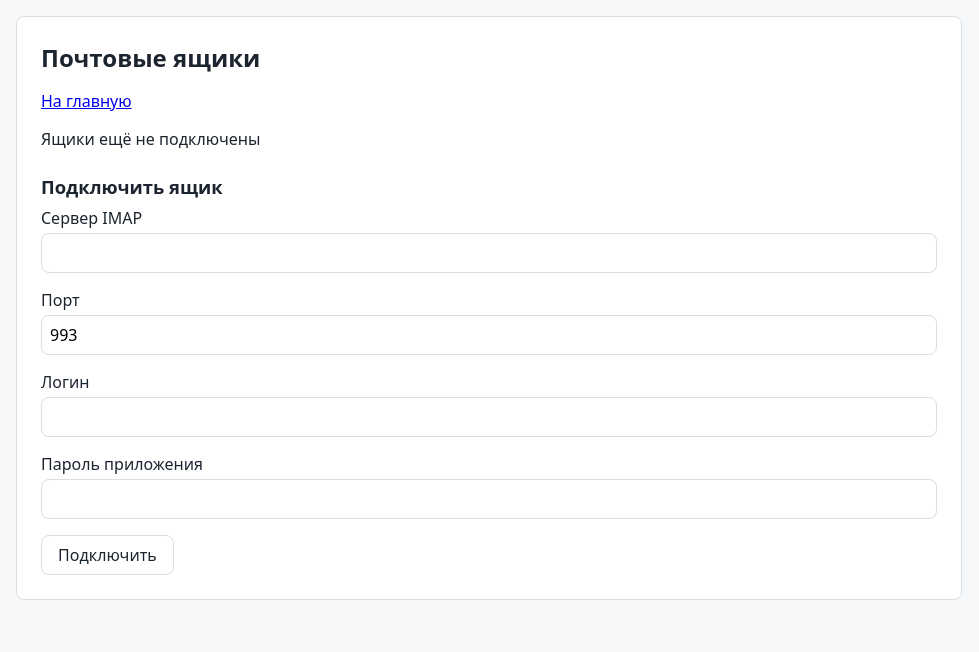
Test: mailboxes page: connect form › FR-22 «Successful connection»: the form posts the four values and the mailbox appears as «Ожидает чтения»
The image size is (979, 652).
Check: the text "Ящики ещё не подключены" is shown, box left=41, top=128, right=260, bottom=150
Type "imap.yandex.ru" into the field labelled "Сервер IMAP" at (489, 253), box left=41, top=233, right=937, bottom=273
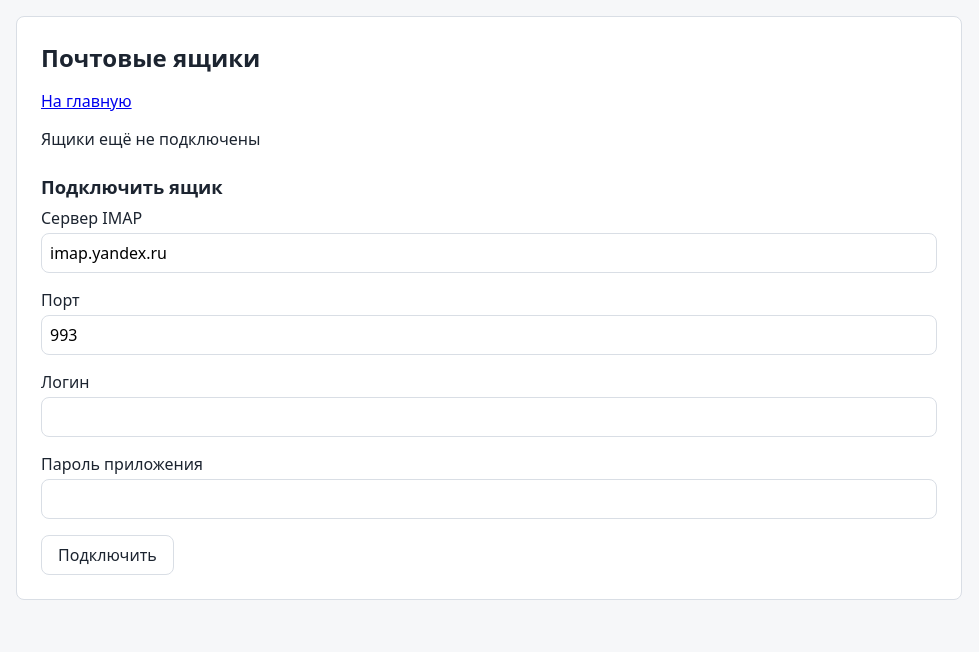
Type "anna@yandex.ru" into the field labelled "Логин" at (489, 417), box left=41, top=397, right=937, bottom=437
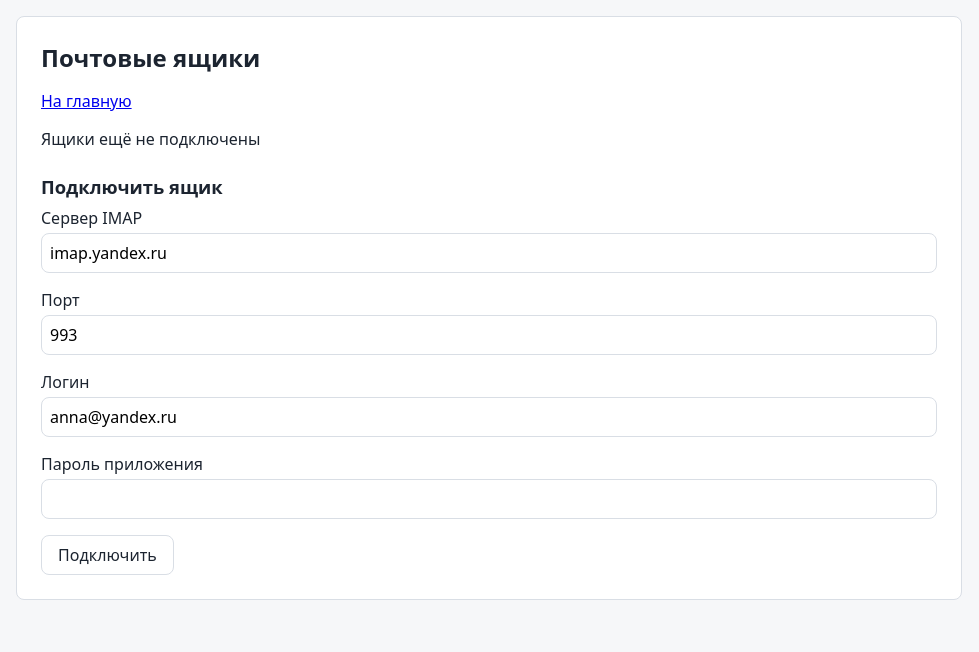
Type "app-pass-1234" into the password field labelled "Пароль приложения" at (489, 499), box left=41, top=479, right=937, bottom=519
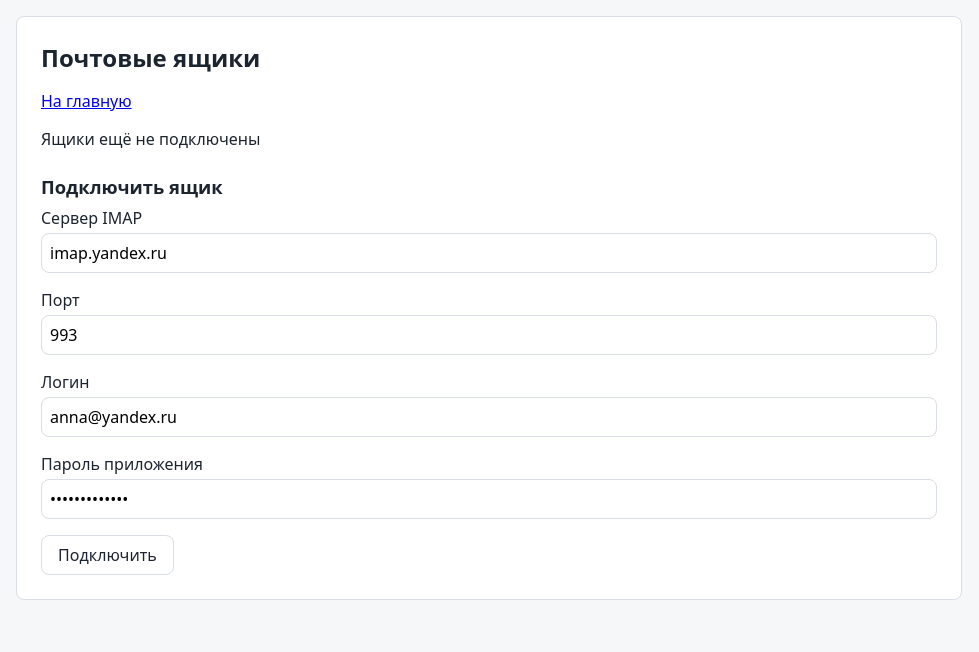
Click the button "Подключить" at (107, 555), box left=41, top=535, right=174, bottom=575
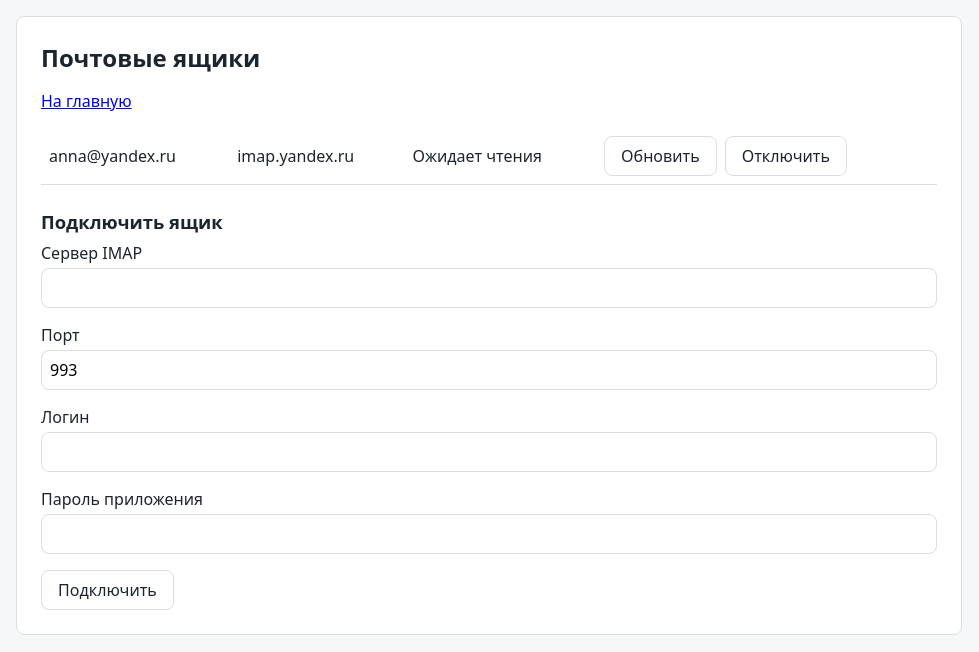
Check: the text "anna@yandex.ru" shows "Ожидает чтения", box left=412, top=145, right=542, bottom=167
